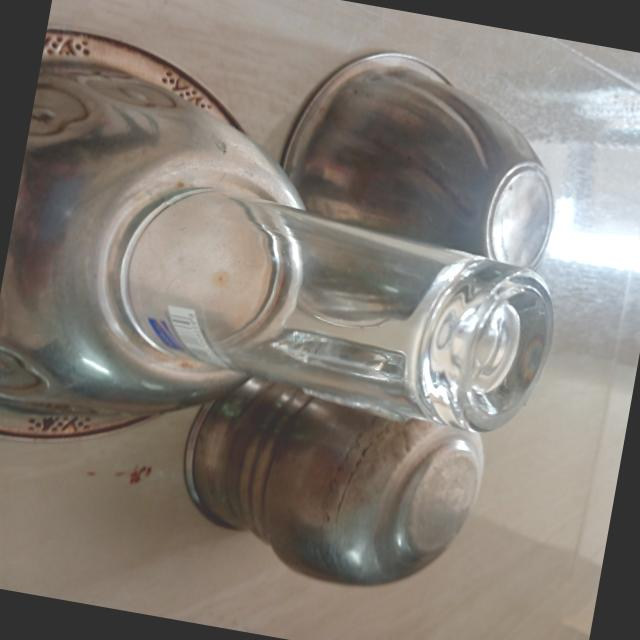glass-VX4N: (92, 171, 568, 443)
